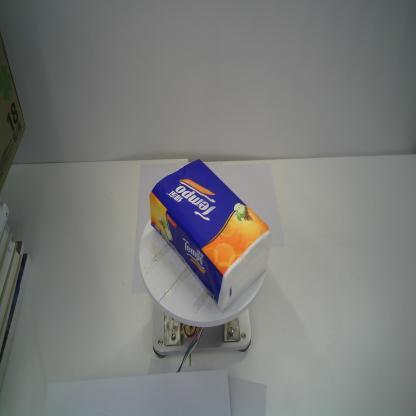Tissue: (148, 158, 271, 314)
